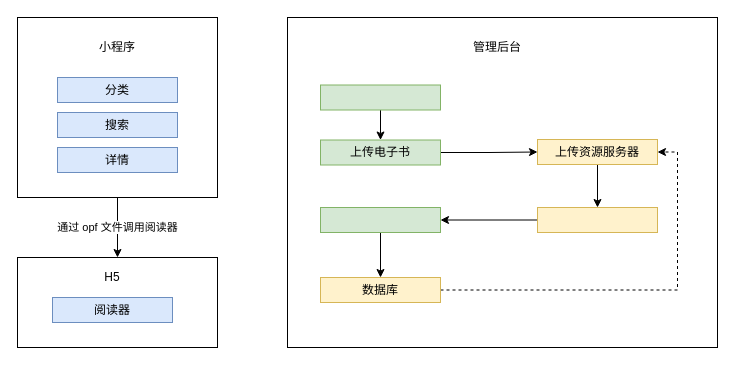
The diagram is 735 pixels wide and 365 high, and some of its shapes have lost their labels. Here are the shapes that lost their labels. From the top down, the box of each, then its label:
(320, 84, 440, 110): 登录
(320, 206, 440, 232): 新增电子书
(536, 206, 658, 232): 解析电子书
